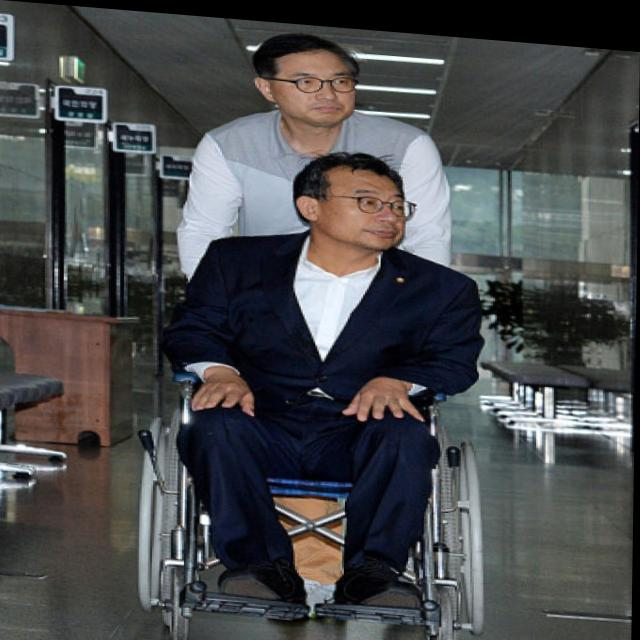wheelchair: (148, 131, 500, 640)
